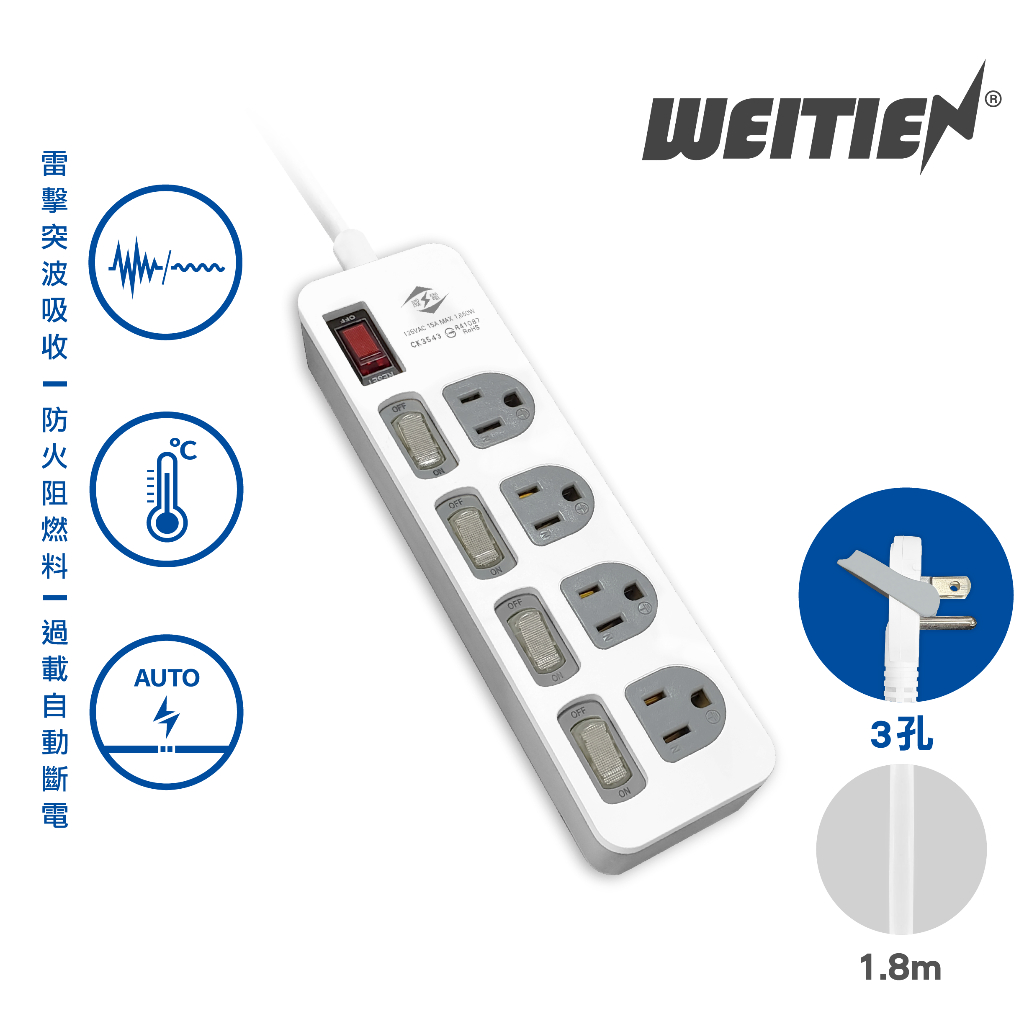socket: (292, 227, 780, 876)
